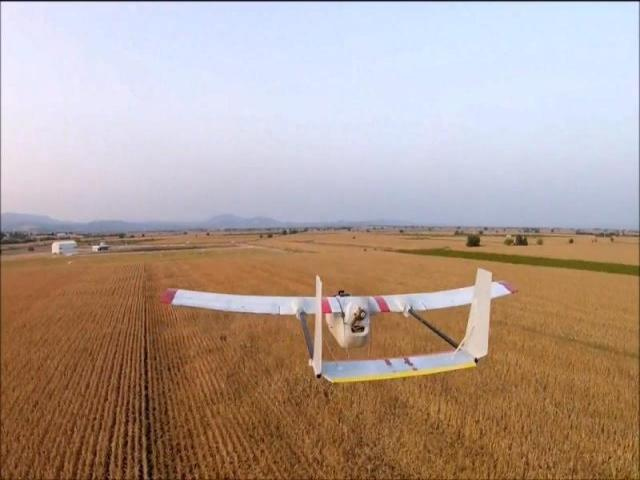hedef: (150, 265, 524, 387)
